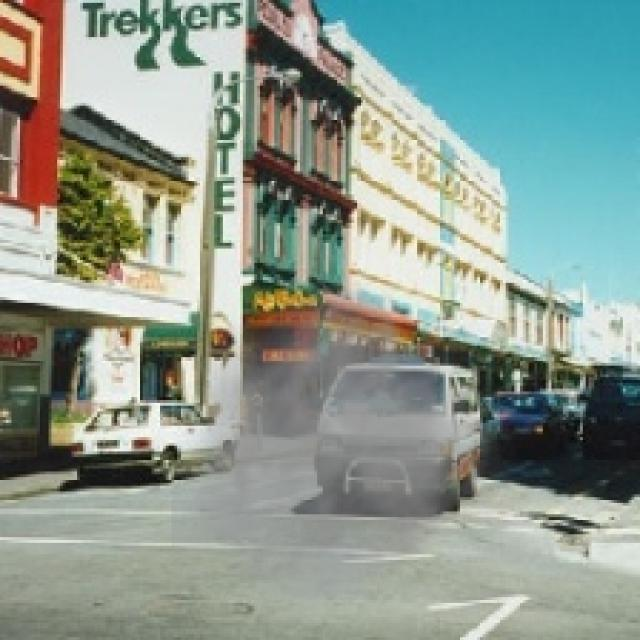smoke: (172, 268, 528, 628)
